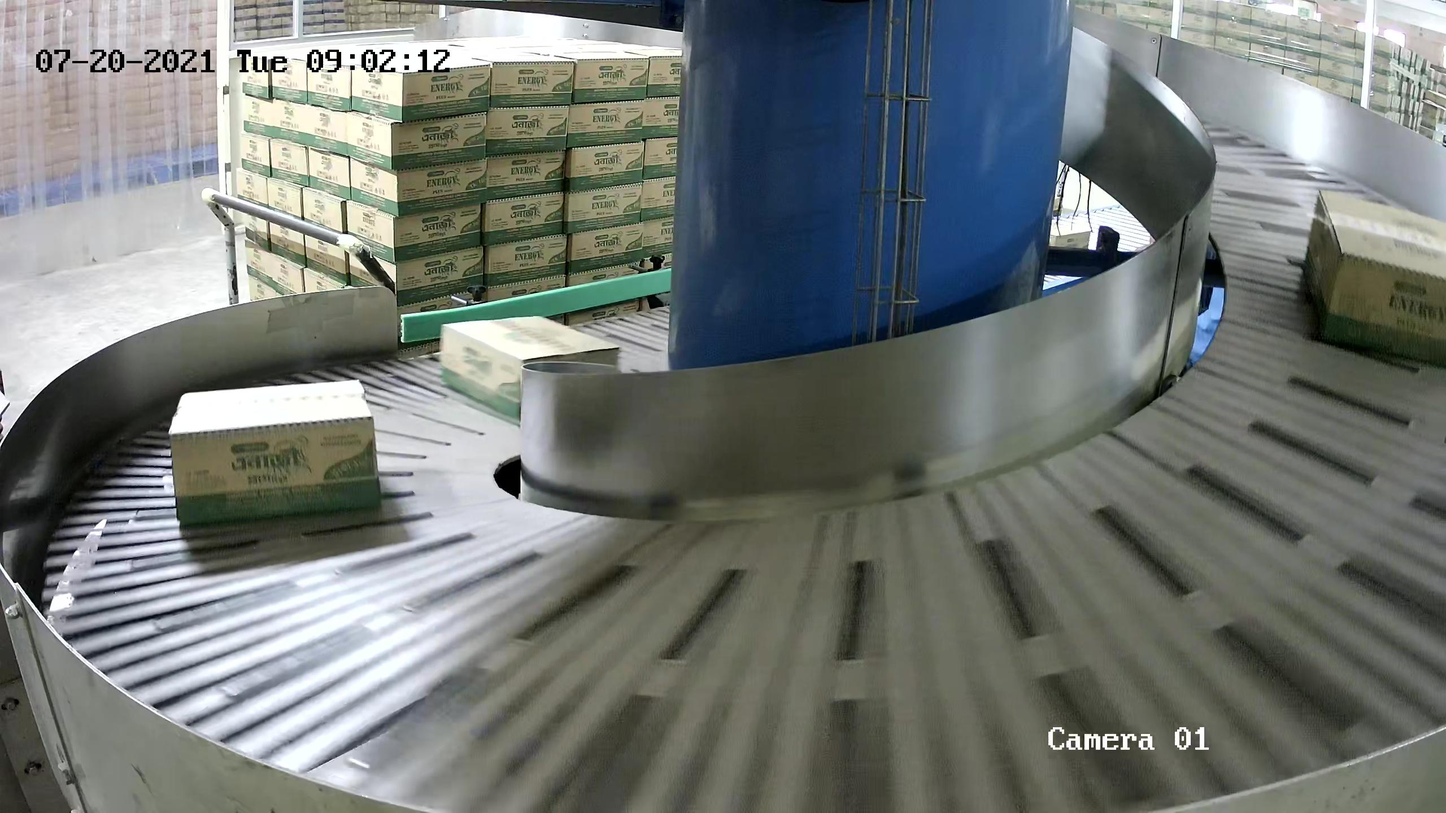Box: (167, 377, 384, 525), (1299, 187, 1446, 366), (438, 313, 622, 426)
